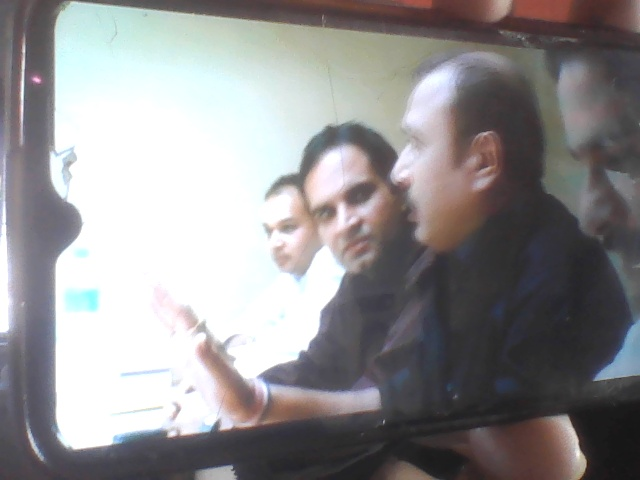fake: (291, 106, 419, 287)
